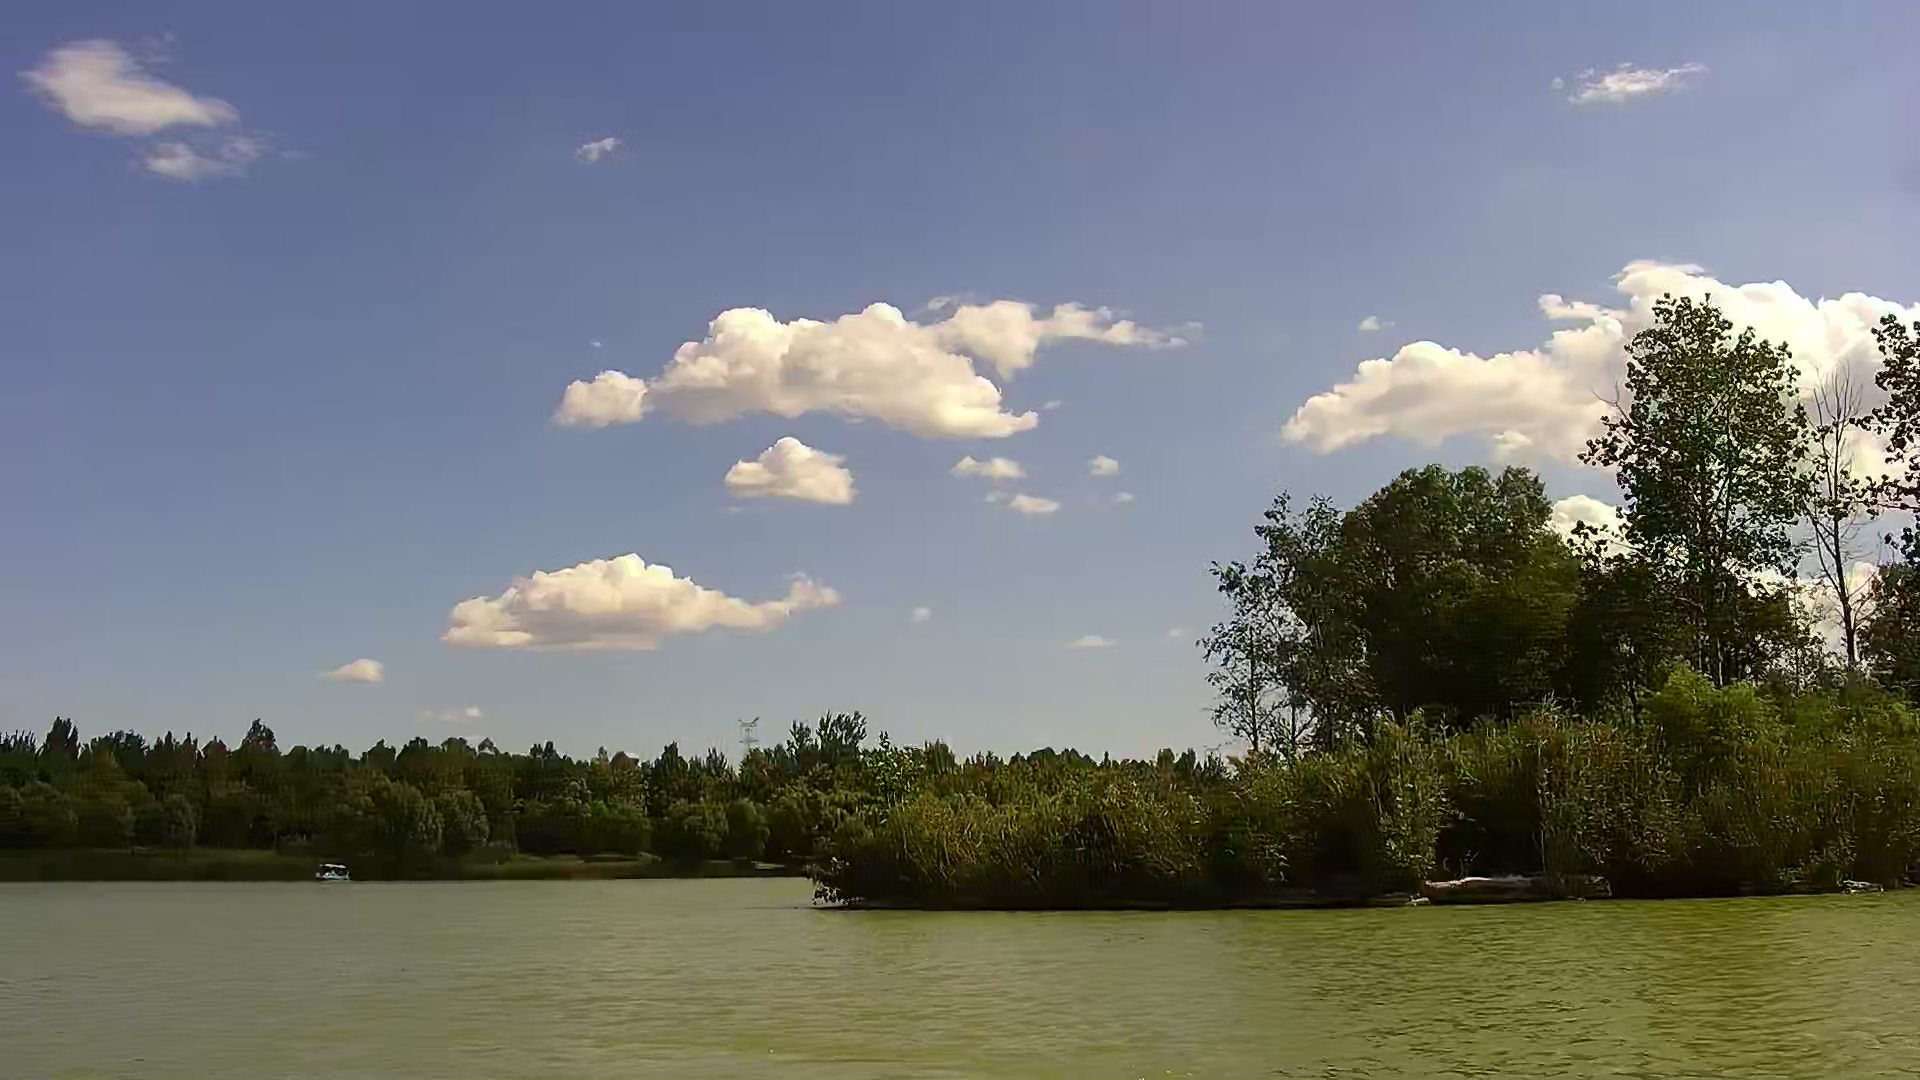boat: (314, 861, 353, 884)
